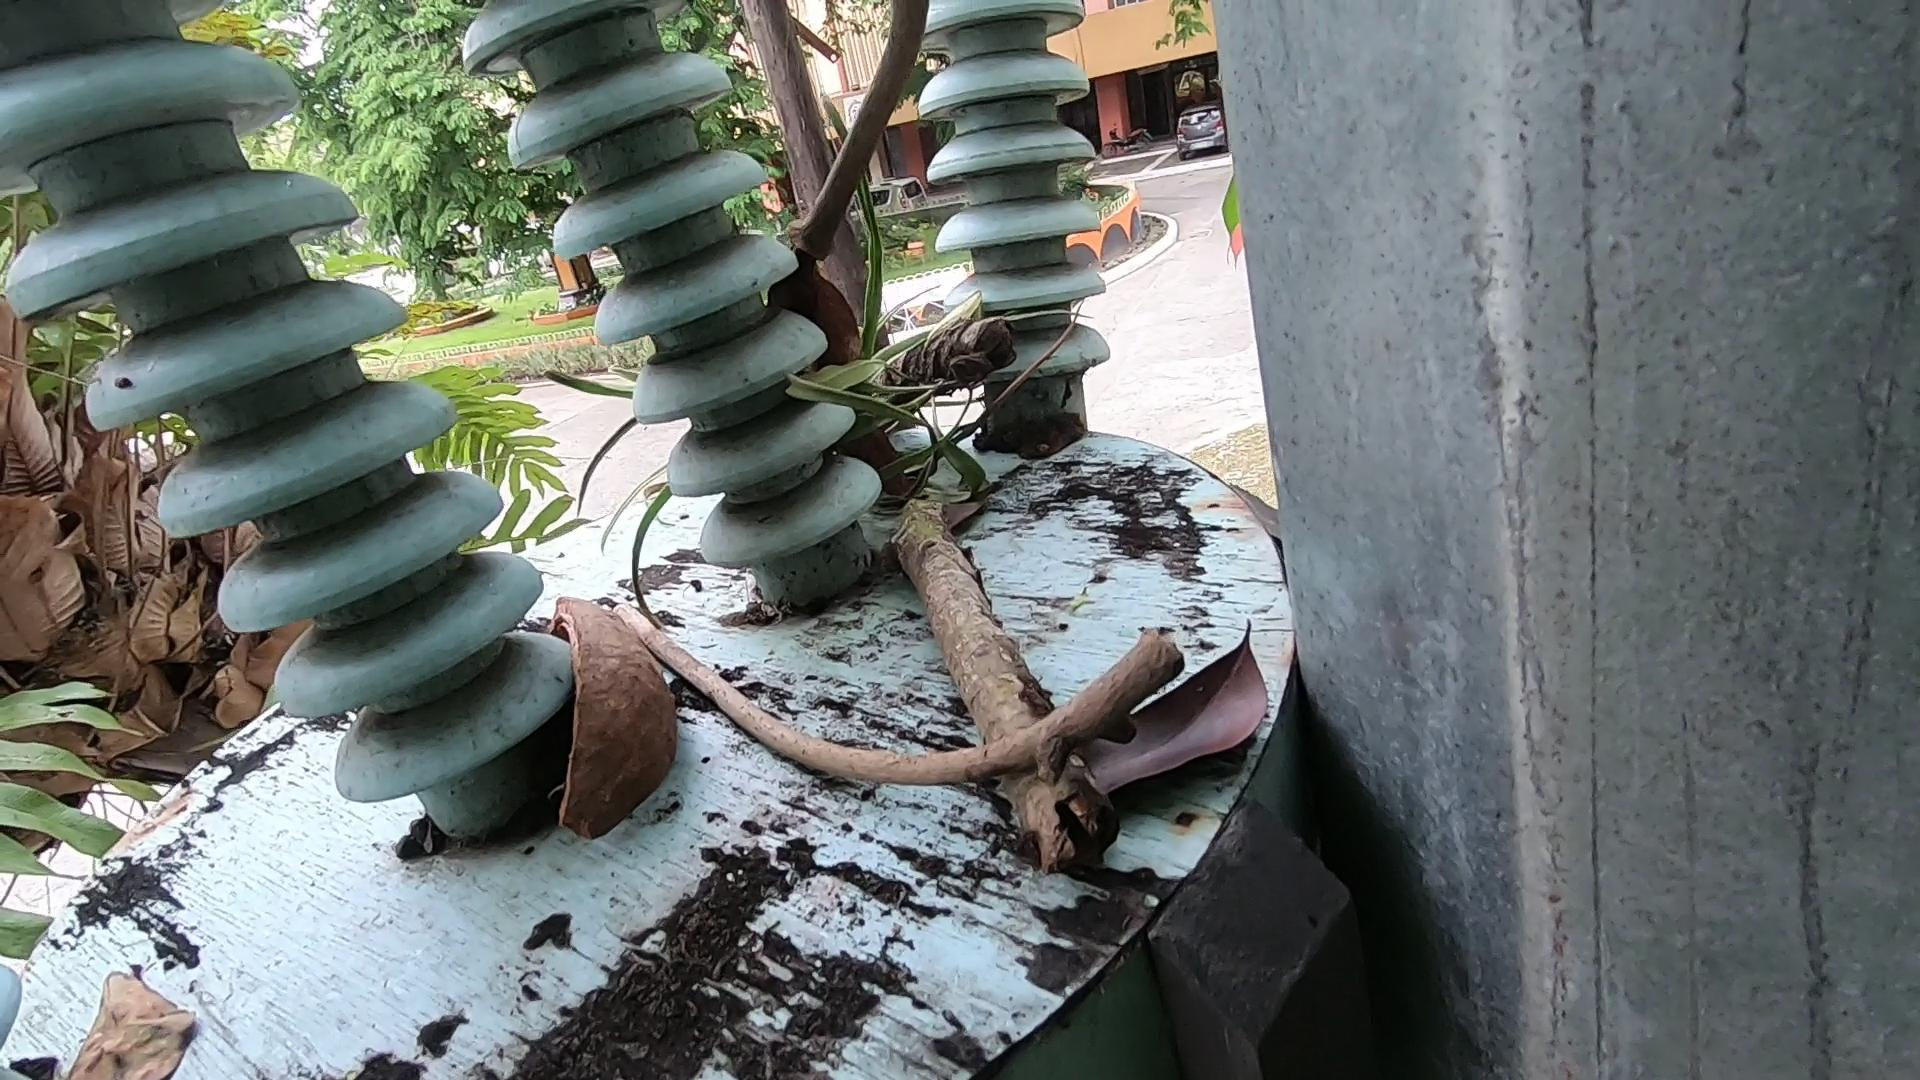branch with leaves: (804, 237, 1120, 930)
leaf: (1036, 597, 1302, 811), (61, 923, 193, 1080)
mahogany fruit: (753, 255, 916, 588), (549, 556, 703, 825)
tree branch: (593, 585, 1216, 848), (762, 1, 932, 298)
